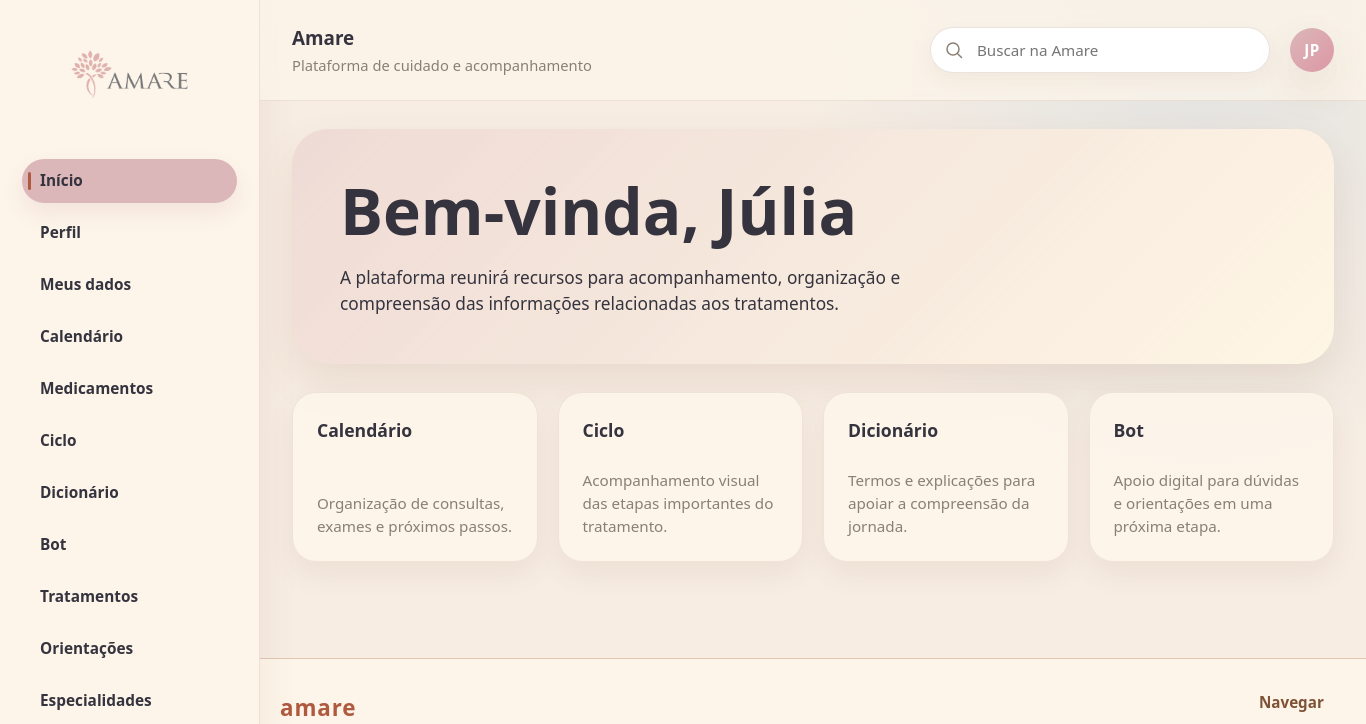
Scenario: Menu da conta no cabecalho › Escape fecha o menu
Click the button with test id "header-perfil-gatilho": (1312, 50) left=1290, top=28, right=1334, bottom=72
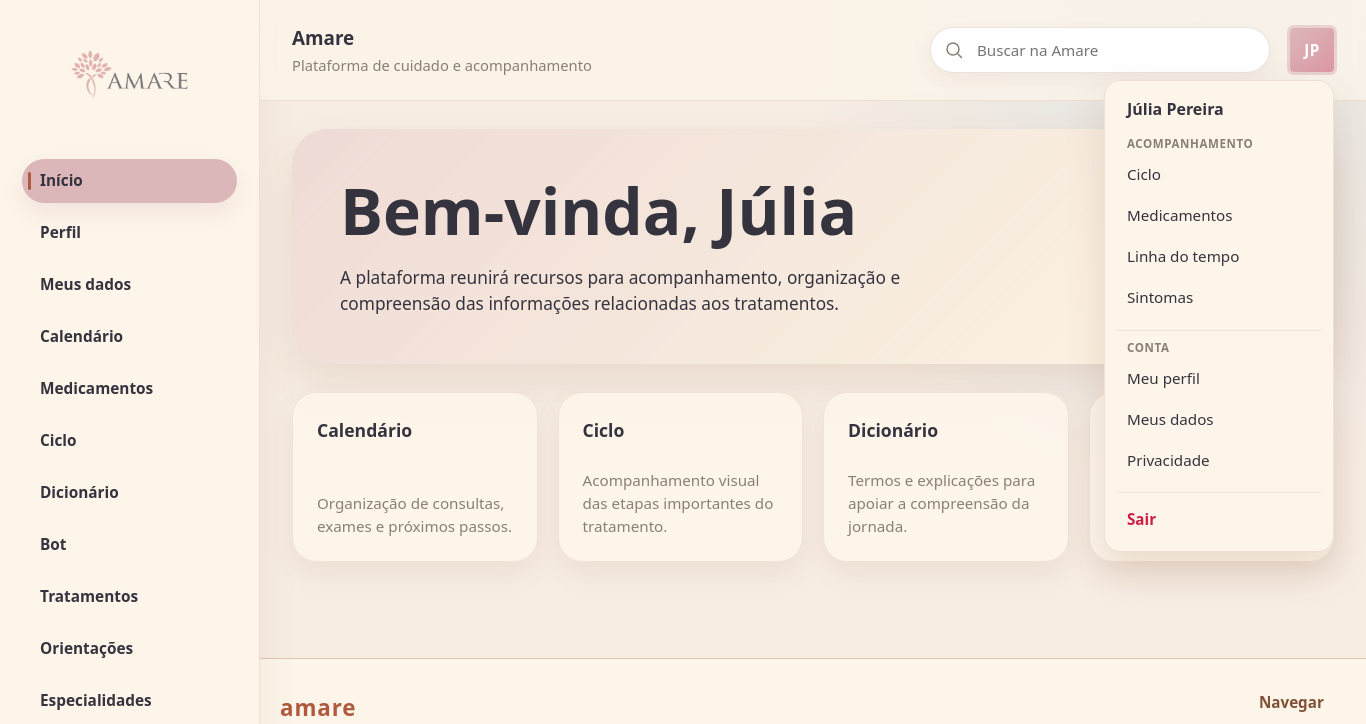
Now the menu with test id "header-perfil-painel" is shown, box left=1104, top=80, right=1334, bottom=552
Press Esc in the button with test id "header-perfil-gatilho", box left=1290, top=28, right=1334, bottom=72
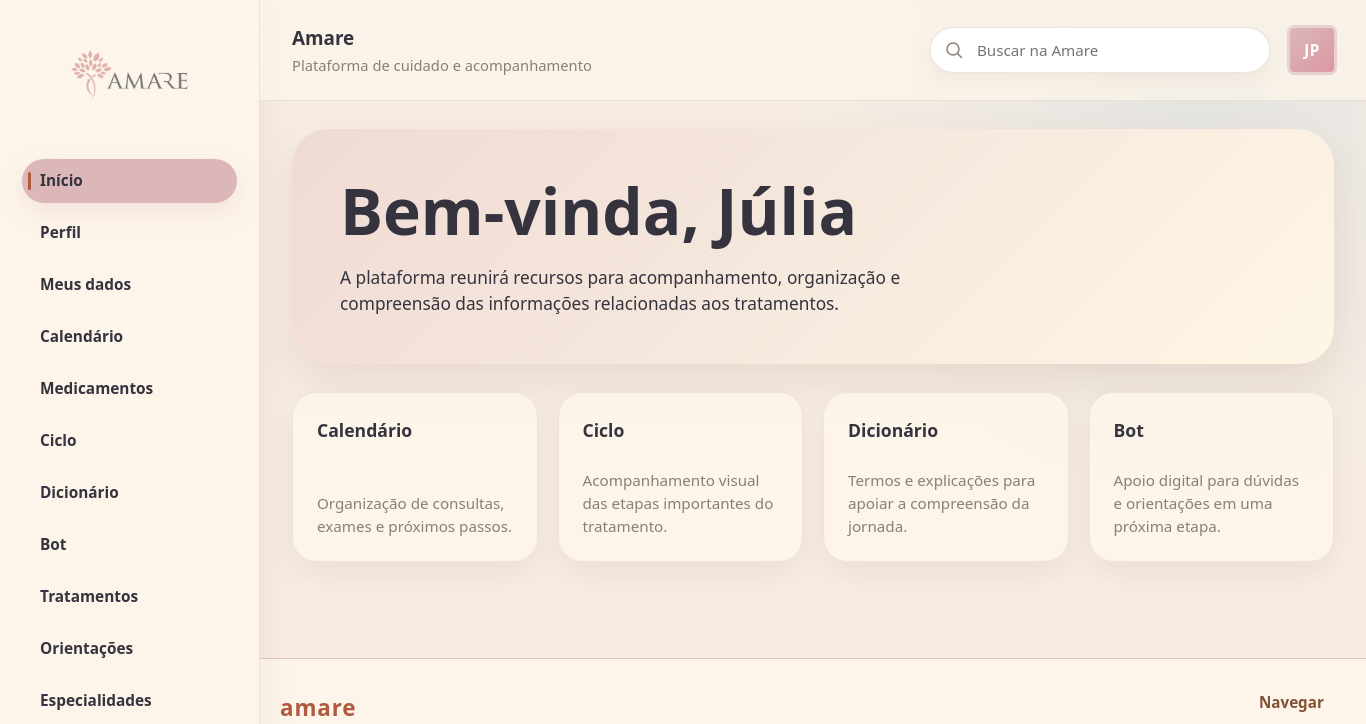
Now the menu with test id "header-perfil-painel" is gone
